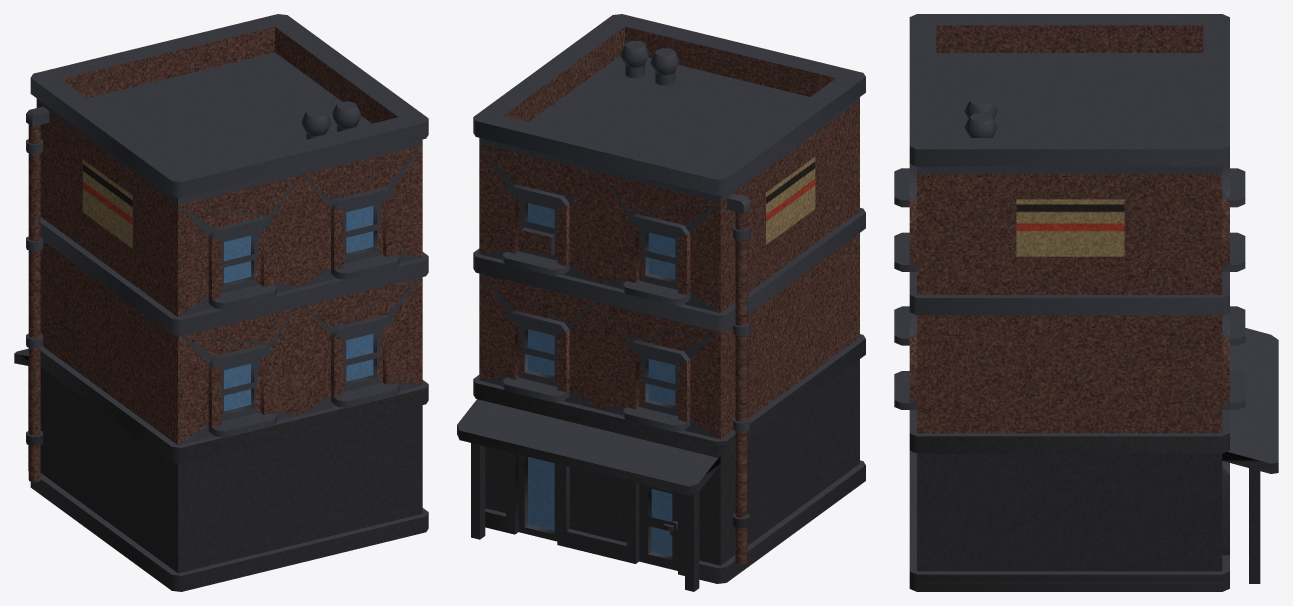
Rendered from building-h-brown-scuffed.glb.
3 renders of one model, left to right at view 1: azimuth 30°, elevation 25°; view 2: azimuth 150°, elevation 25°; view 3: azimuth 270°, elevation 25°, orthographic. The views are drawn at different scales.
Visible parts, largest first — view 1: building-h-brown-scuffed; view 2: building-h-brown-scuffed; view 3: building-h-brown-scuffed.
Part boxes in pixels (x1,y1,x2,y2): building-h-brown-scuffed: [14, 14, 428, 591]; building-h-brown-scuffed: [457, 14, 865, 591]; building-h-brown-scuffed: [894, 14, 1278, 591].
Size of the model in its own units: 0.8836 by 1.29 by 1.01.
1 material, 1 textured.
